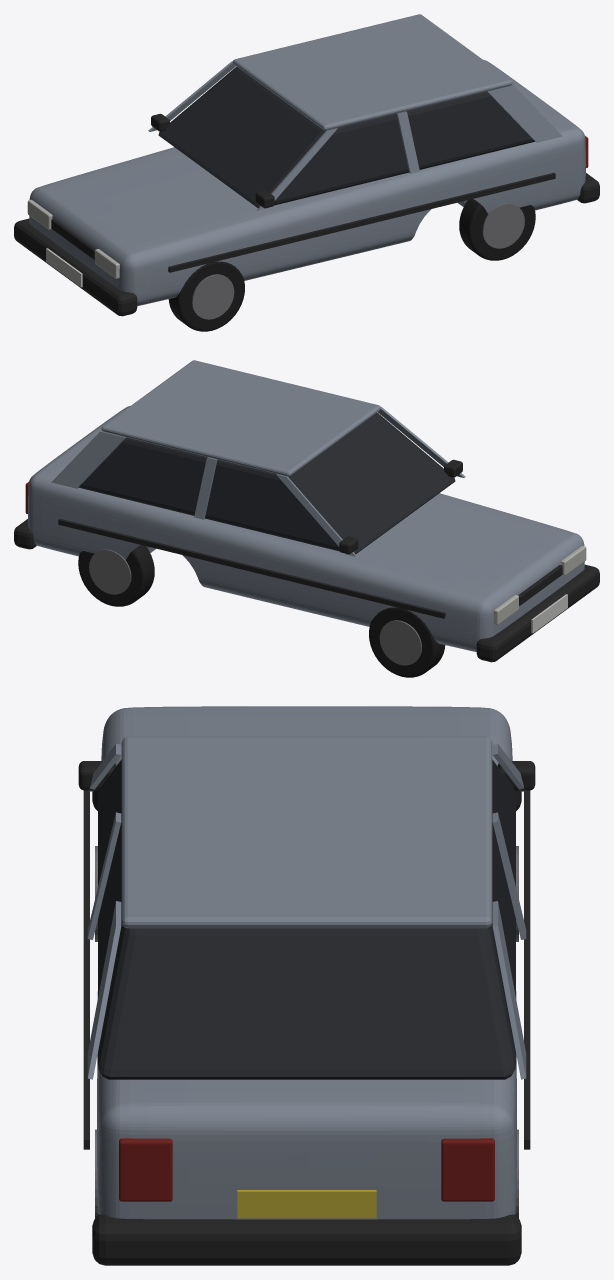
Rendered from hatch-bluegrey.glb.
3 views of the same model, one above another, from view 1: azimuth 30°, elevation 25°; view 2: azimuth 150°, elevation 25°; view 3: azimuth 270°, elevation 25° (orthographic). The views are drawn at different scales.
Parts seen in each view (by area): view 1: car; view 2: car; view 3: car.
Boxes of the visible parts, x1,y1,x2,y2 form: car: [14, 14, 599, 331]; car: [14, 360, 599, 677]; car: [78, 706, 535, 1265].
Size of the model in its own units: 4.19 by 1.41 by 1.7.
